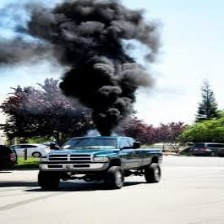smoke: (26, 2, 150, 129)
